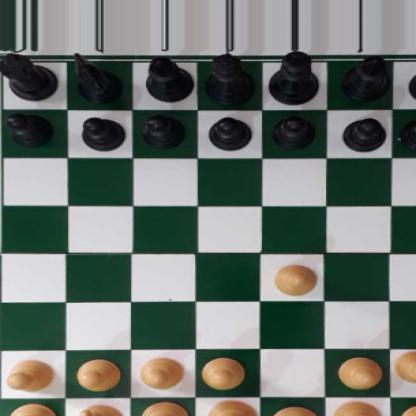black-bishop: (341, 53, 390, 100), (145, 55, 194, 101)
black-king: (266, 50, 318, 104)
black-knight: (74, 52, 121, 104), (409, 49, 416, 104)
black-pawn: (7, 112, 53, 146), (80, 114, 123, 150), (271, 114, 315, 149), (209, 114, 252, 149), (342, 116, 386, 150), (142, 113, 184, 148), (401, 114, 416, 150)
black-queen: (205, 53, 256, 103)
black-rook: (0, 54, 59, 99)
white-bishop: (333, 399, 381, 416), (139, 400, 187, 416)
white-king: (273, 403, 316, 416)
white-knight: (78, 403, 121, 416), (400, 403, 416, 416)
white-pawn: (4, 358, 56, 390), (138, 355, 183, 389), (271, 263, 318, 295), (336, 356, 381, 388), (202, 356, 246, 388), (76, 358, 120, 390), (396, 350, 416, 384)
white-queen: (207, 396, 255, 416)
white-rook: (0, 402, 57, 416)
